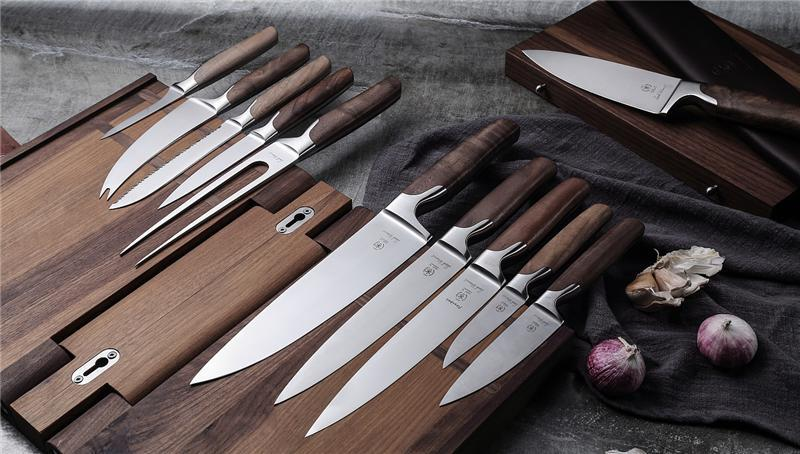knife: (89, 16, 733, 444)
